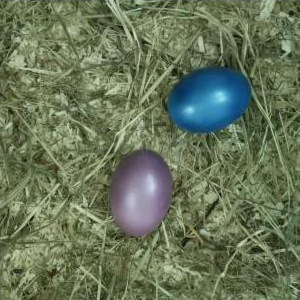egg: (168, 68, 251, 134), (110, 150, 172, 237)
